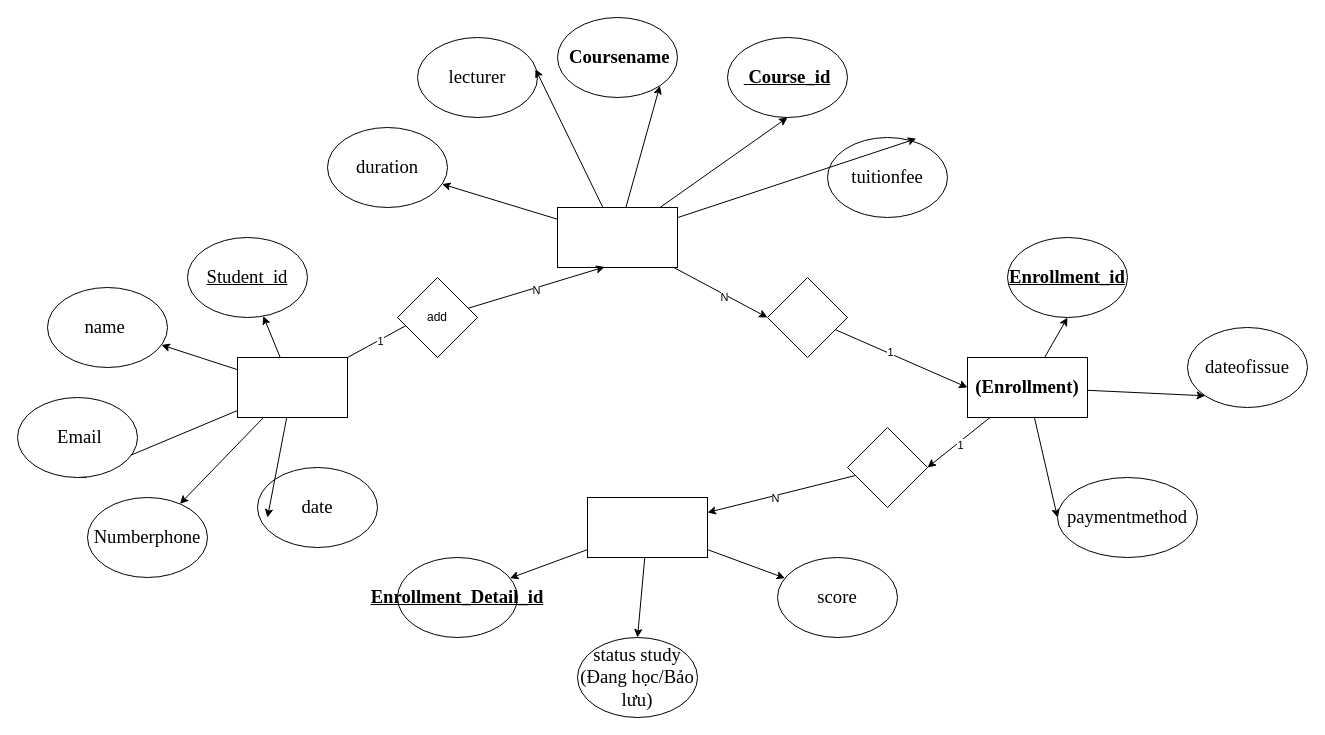
The diagram is 1325 pixels wide and 735 high, and some of its shapes have lost their labels. The centre of each missing label's shape, as x and y in pixels:
"(Course)" belongs at point 617,237.
"(Enrollment_Detail)" belongs at point 647,527.
"(Student)" belongs at point 292,387.
"print" belongs at point 887,467.
"save" belongs at point 807,317.
